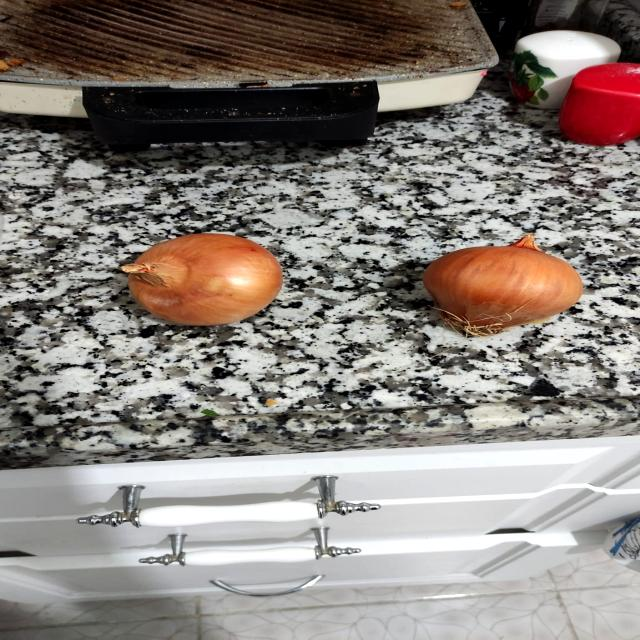onion: (104, 217, 322, 347), (414, 217, 600, 349)
